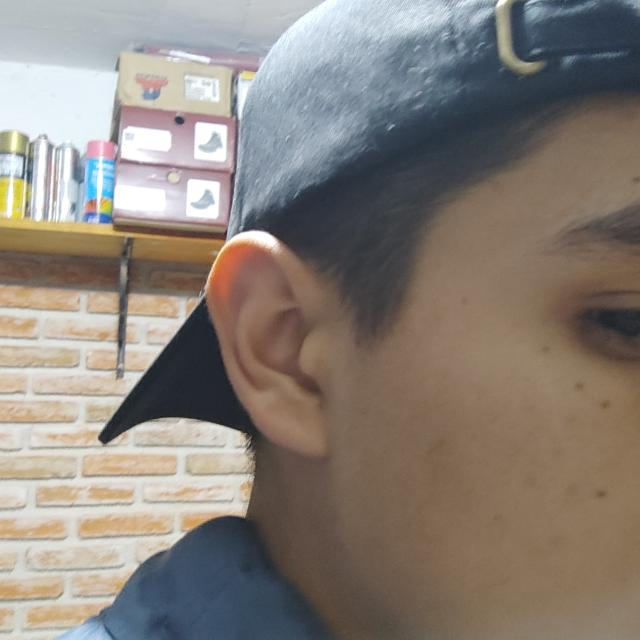ear: (204, 230, 332, 460)
